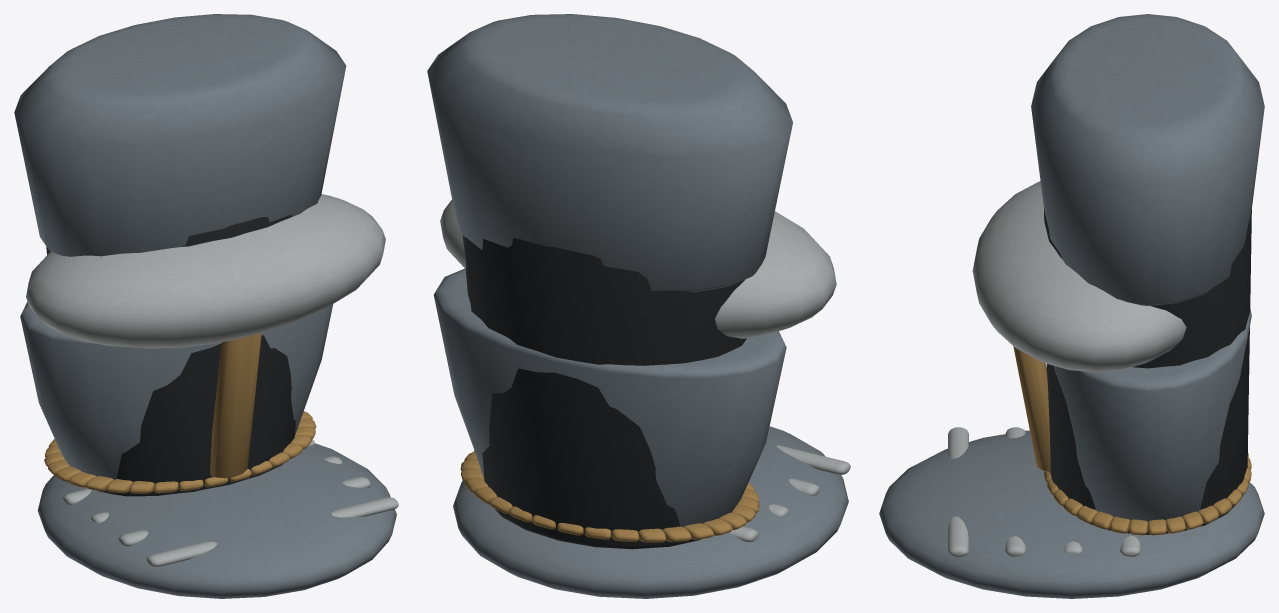
File: hero_leg.glb
3 renders of one model, left to right at view 1: azimuth 30°, elevation 25°; view 2: azimuth 150°, elevation 25°; view 3: azimuth 270°, elevation 25°, orthographic. The views are drawn at different scales.
Visible parts, largest first — view 1: hero_leg cold worn steel, hero_leg matron silver, hero_leg charcoal cloth, hero_leg dull relic gold; view 2: hero_leg cold worn steel, hero_leg charcoal cloth, hero_leg matron silver, hero_leg dull relic gold; view 3: hero_leg cold worn steel, hero_leg matron silver, hero_leg charcoal cloth, hero_leg dull relic gold.
Part boxes in pixels (left/top/right/bottom): hero_leg cold worn steel: left=14, top=14, right=396, bottom=598; hero_leg matron silver: left=26, top=194, right=398, bottom=567; hero_leg charcoal cloth: left=46, top=215, right=295, bottom=496; hero_leg dull relic gold: left=44, top=333, right=316, bottom=493; hero_leg cold worn steel: left=427, top=14, right=848, bottom=598; hero_leg charcoal cloth: left=462, top=235, right=746, bottom=549; hero_leg matron silver: left=440, top=200, right=850, bottom=541; hero_leg dull relic gold: left=460, top=450, right=759, bottom=542; hero_leg cold worn steel: left=879, top=14, right=1264, bottom=598; hero_leg matron silver: left=948, top=181, right=1186, bottom=557; hero_leg charcoal cloth: left=1044, top=209, right=1251, bottom=534; hero_leg dull relic gold: left=1013, top=346, right=1251, bottom=535.
Bounding box in the file's own units: 0.96 × 1.26 × 0.9167.
Materials: 4 (4 with a texture image).
